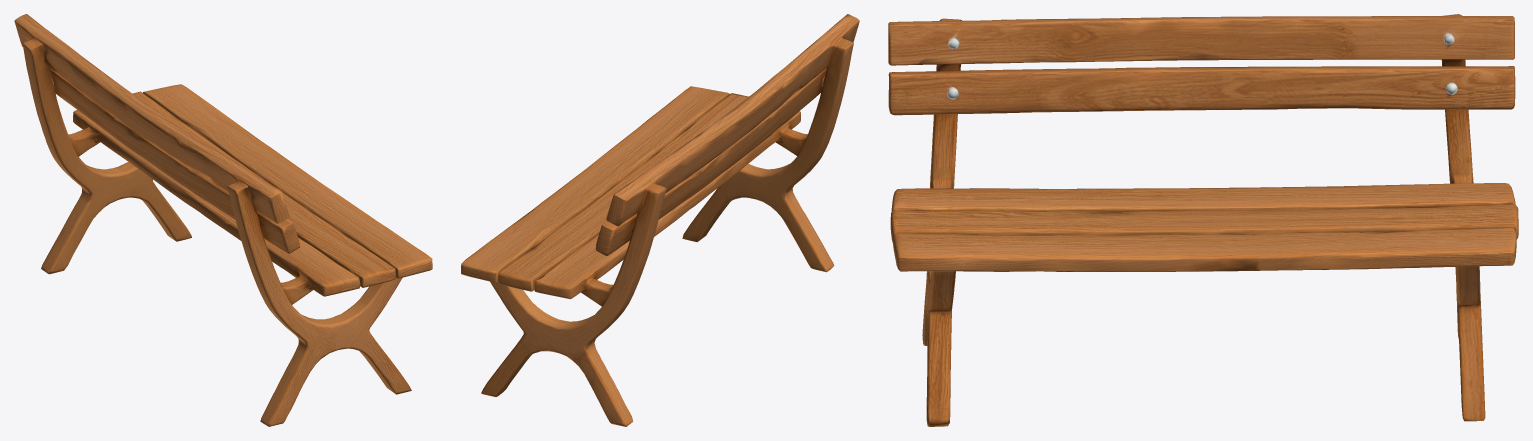
File: bench.glb
The picture shows the model from 3 angles, left to right: view 1: azimuth 30°, elevation 25°; view 2: azimuth 150°, elevation 25°; view 3: azimuth 270°, elevation 25°; orthographic projection. The views are drawn at different scales.
Parts seen in each view (by area): view 1: tripo_node_2d4c2eed-c430-48d2-b4e4-1ce6964df99f; view 2: tripo_node_2d4c2eed-c430-48d2-b4e4-1ce6964df99f; view 3: tripo_node_2d4c2eed-c430-48d2-b4e4-1ce6964df99f.
Part boxes in pixels (left/top/right/bottom): tripo_node_2d4c2eed-c430-48d2-b4e4-1ce6964df99f: left=14, top=14, right=432, bottom=426; tripo_node_2d4c2eed-c430-48d2-b4e4-1ce6964df99f: left=461, top=14, right=859, bottom=426; tripo_node_2d4c2eed-c430-48d2-b4e4-1ce6964df99f: left=888, top=14, right=1518, bottom=426.
Size of the model in its own units: 0.7658 by 0.95 by 1.74.
1 material, 1 textured.
